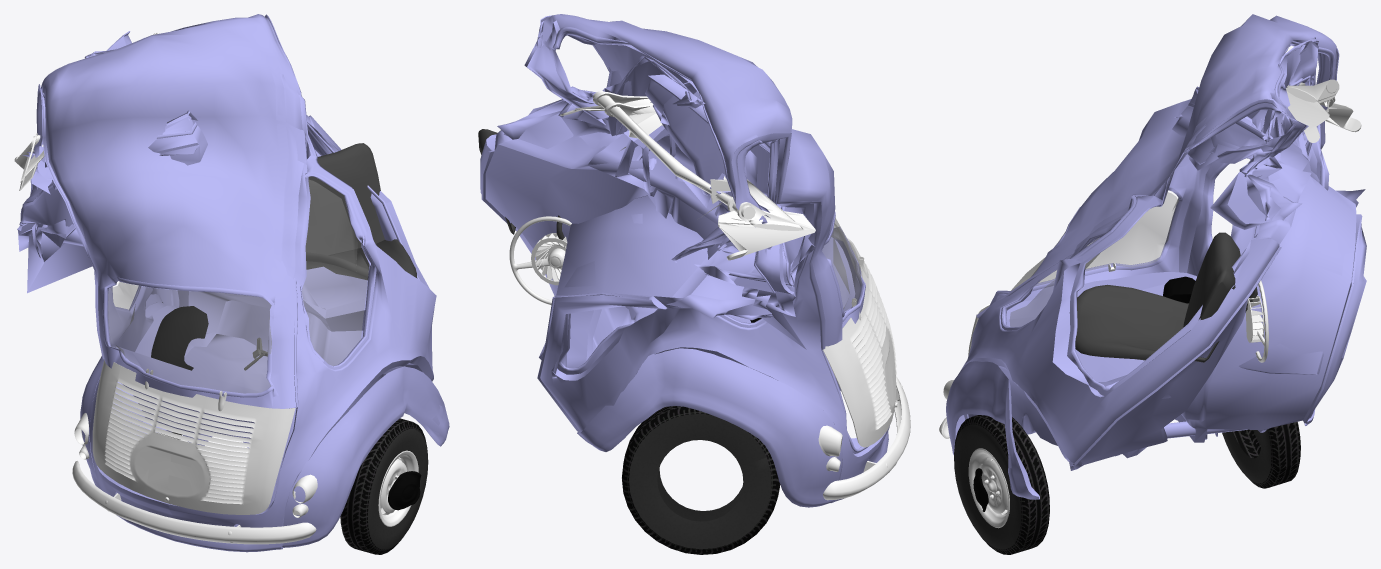
Rendered from new_crashform.fbx.
The picture shows the model from 3 angles, left to right: view 1: azimuth 30°, elevation 25°; view 2: azimuth 150°, elevation 25°; view 3: azimuth 270°, elevation 25°; orthographic projection. The views are drawn at different scales.
Parts seen in each view (by area): view 1: Mesh_0643_rip, Mesh_0724_rip, Mesh_0795_rip, Mesh_0697_rip, Mesh_0801_rip, Mesh_0521_rip, Mesh_0538_rip.000, Mesh_0712_rip, Mesh_0582_rip1, Mesh_0523_rip, Mesh_0703_rip, Mesh_0676_rip (+1 smaller); view 2: Mesh_0643_rip, Mesh_0703_rip, Mesh_0538_rip.002, Mesh_0724_rip, Mesh_0676_rip, Mesh_0712_rip, Mesh_0516_rip1, Mesh_0795_rip, Mesh_0706_rip; view 3: Mesh_0643_rip, Mesh_0521_rip, Mesh_0538_rip.000, Mesh_0697_rip, Mesh_0538_rip.002, Mesh_0795_rip, Mesh_0676_rip, Mesh_0582_rip1, Mesh_0516_rip1, Mesh_0801_rip, Mesh_0523_rip.
Boxes of the visible parts, <box> form: Mesh_0643_rip: <box>17,14,436,552</box>; Mesh_0724_rip: <box>92,360,295,514</box>; Mesh_0795_rip: <box>108,282,271,393</box>; Mesh_0697_rip: <box>282,366,449,547</box>; Mesh_0801_rip: <box>302,180,368,365</box>; Mesh_0521_rip: <box>305,143,416,280</box>; Mesh_0538_rip.000: <box>340,418,428,554</box>; Mesh_0712_rip: <box>72,461,316,544</box>; Mesh_0582_rip1: <box>378,450,421,526</box>; Mesh_0523_rip: <box>151,306,208,370</box>; Mesh_0703_rip: <box>80,294,162,489</box>; Mesh_0676_rip: <box>14,33,158,190</box>; Mesh_0643_rip: <box>480,14,889,502</box>; Mesh_0703_rip: <box>577,348,842,507</box>; Mesh_0538_rip.002: <box>622,406,780,554</box>; Mesh_0724_rip: <box>823,238,897,447</box>; Mesh_0676_rip: <box>560,91,815,260</box>; Mesh_0712_rip: <box>823,376,910,500</box>; Mesh_0516_rip1: <box>509,216,571,304</box>; Mesh_0795_rip: <box>822,218,861,311</box>; Mesh_0706_rip: <box>818,425,842,471</box>; Mesh_0643_rip: <box>961,14,1366,470</box>; Mesh_0521_rip: <box>1075,232,1257,362</box>; Mesh_0538_rip.000: <box>954,415,1049,554</box>; Mesh_0697_rip: <box>946,361,1039,499</box>; Mesh_0538_rip.002: <box>1222,422,1300,488</box>; Mesh_0795_rip: <box>1000,192,1178,292</box>; Mesh_0676_rip: <box>1286,79,1361,142</box>; Mesh_0582_rip1: <box>968,448,1009,528</box>; Mesh_0516_rip1: <box>1246,280,1268,362</box>; Mesh_0801_rip: <box>1010,253,1099,326</box>; Mesh_0523_rip: <box>1163,276,1195,303</box>.
Size of the model in its own units: 4.01 by 5.15 by 4.34.
Materials: 7 (1 with a texture image).
